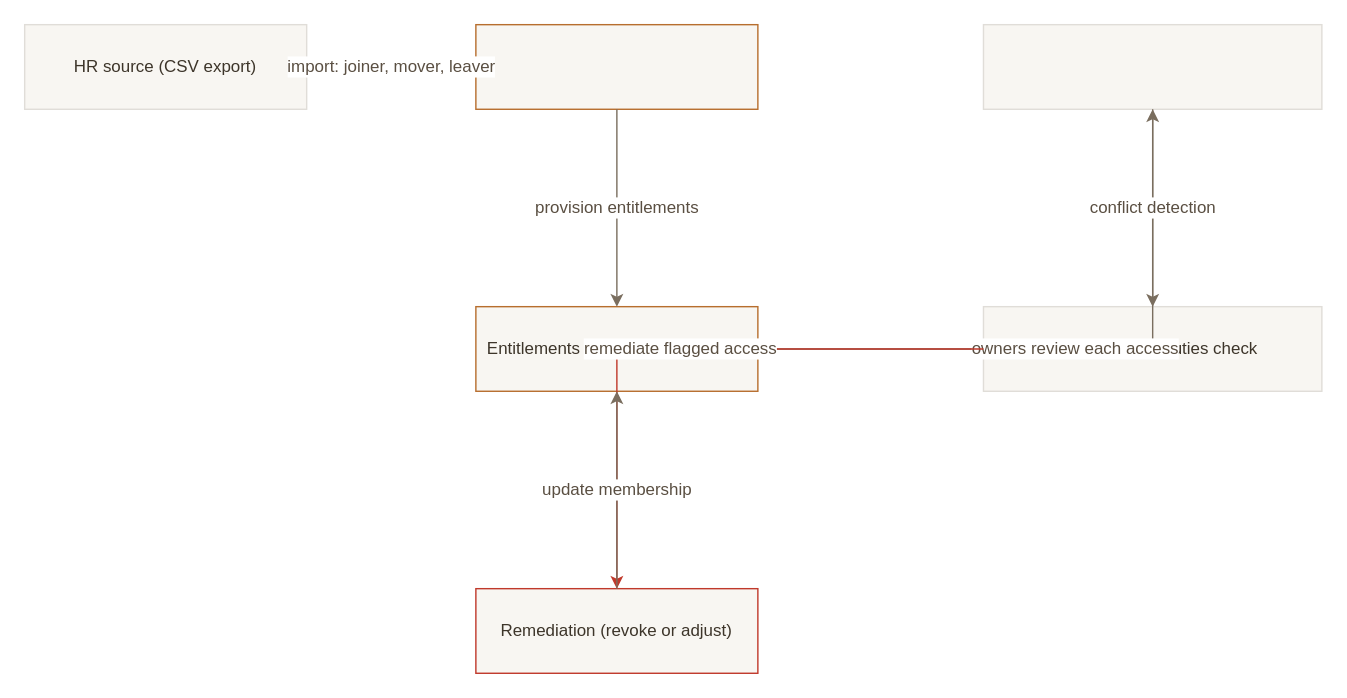
Some shapes in this 1347 by 698 pixel diagram are drawn without their labels. The box of each missing label's shape, as (x1, y1, x2, y2) in pixels:
Access certification campaign: (982, 23, 1322, 109)
Identity store: (474, 23, 758, 109)
